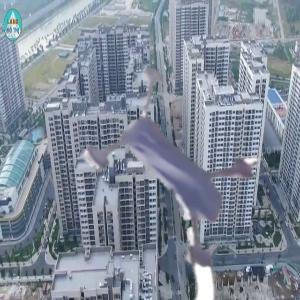drone: (57, 76, 276, 295)
